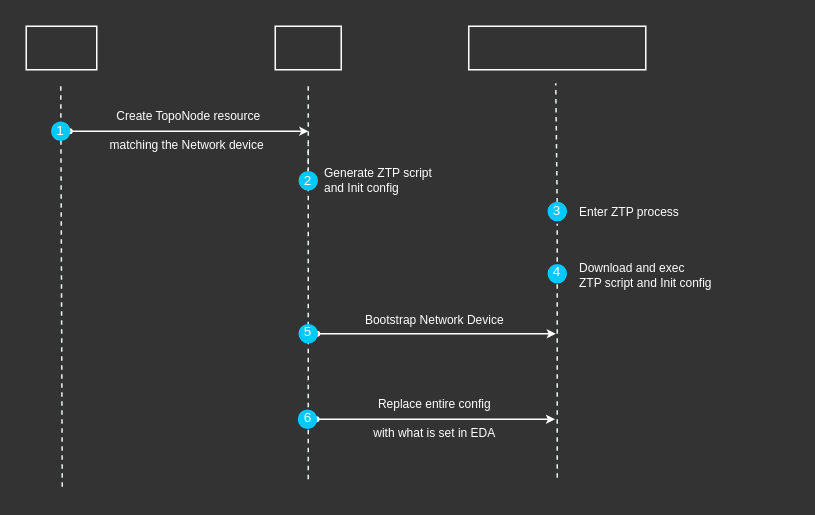
The diagram is 815 pixels wide and 515 high, and some of its shapes have lost their labels. Each missing label, with the centre of its shape:
"EDA" belongs at pixel 307 47.
"Network Device" belongs at pixel 556 47.
"User" belongs at pixel 61 47.
